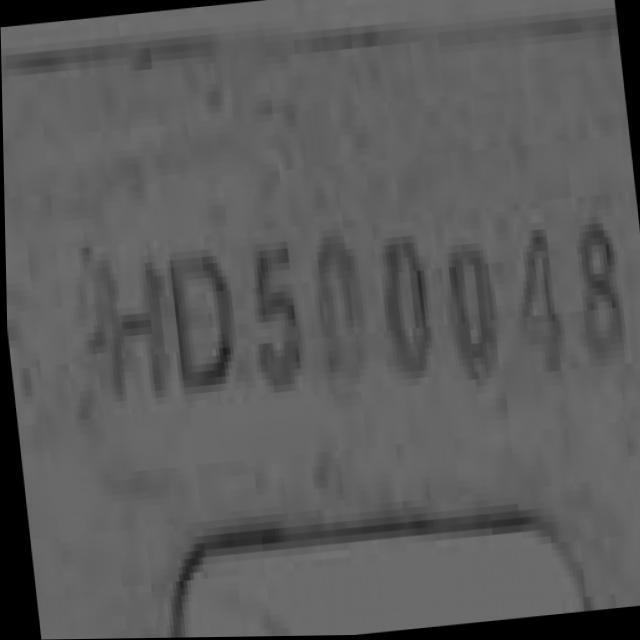ocr: (82, 179, 639, 454)
